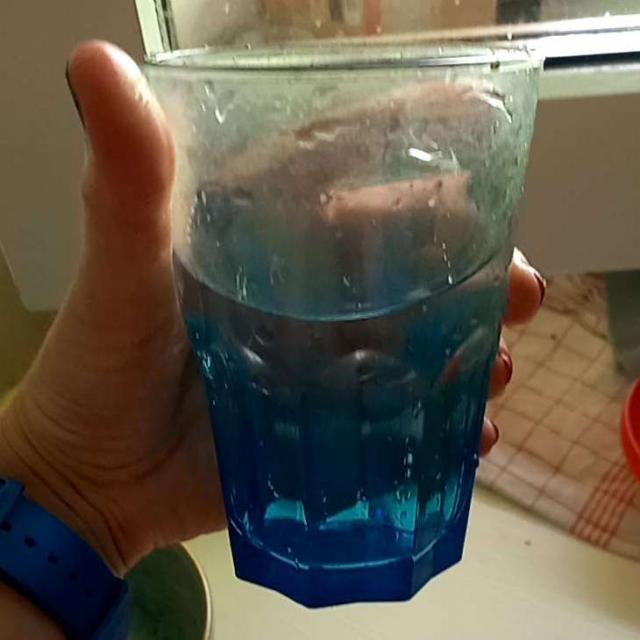water: (188, 163, 500, 552)
